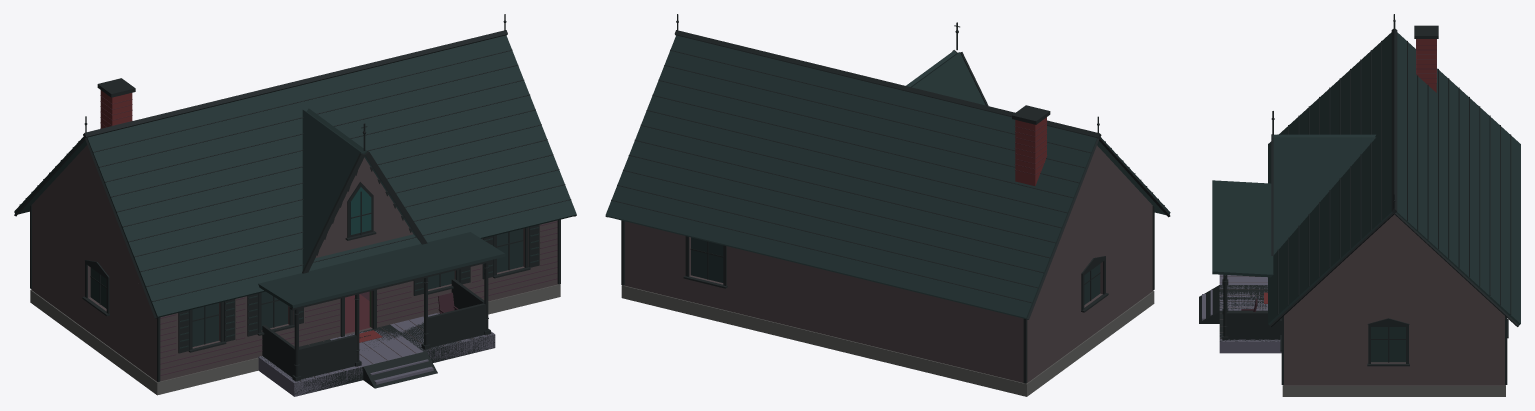
The model's file is casa_lexy.glb.
3 views of the same model, side by side, from view 1: azimuth 30°, elevation 25°; view 2: azimuth 150°, elevation 25°; view 3: azimuth 270°, elevation 25° (orthographic). The views are drawn at different scales.
Visible parts, largest first — view 1: Casa, Coliziune, Geamuri; view 2: Casa, Geamuri; view 3: Casa, Coliziune, Geamuri.
Boxes of the visible parts, x1,y1,x2,y2 form: Casa: [14, 14, 576, 396]; Coliziune: [258, 279, 494, 395]; Geamuri: [90, 229, 523, 346]; Casa: [605, 14, 1170, 396]; Geamuri: [691, 237, 1100, 304]; Casa: [1202, 14, 1520, 396]; Coliziune: [1199, 285, 1281, 341]; Geamuri: [1371, 327, 1405, 362].
Size of the model in its own units: 14.7 by 7.97 by 11.03.
